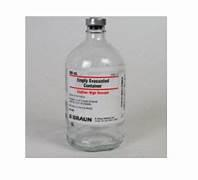Iv_Bottle: (65, 17, 124, 150)
